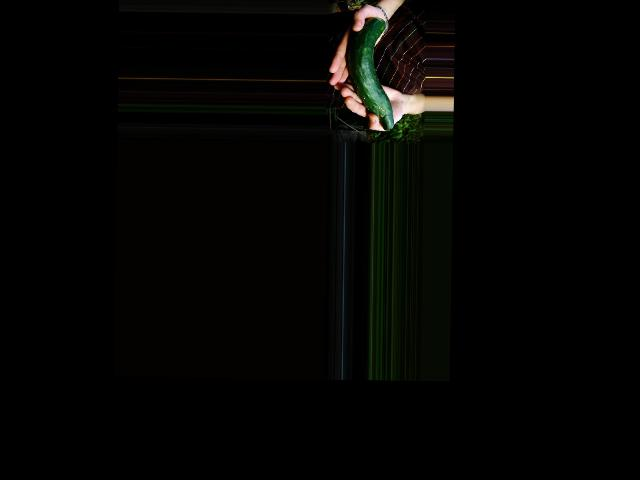cucumber: (346, 16, 395, 130)
